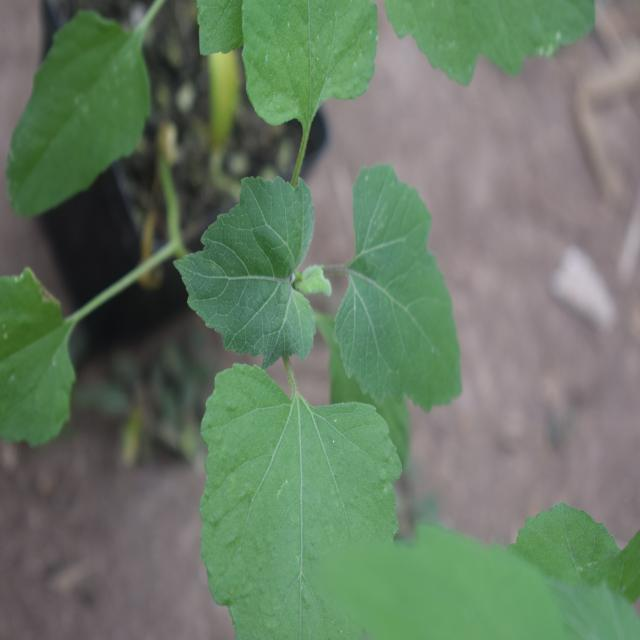cocklebur: (102, 16, 492, 583)
